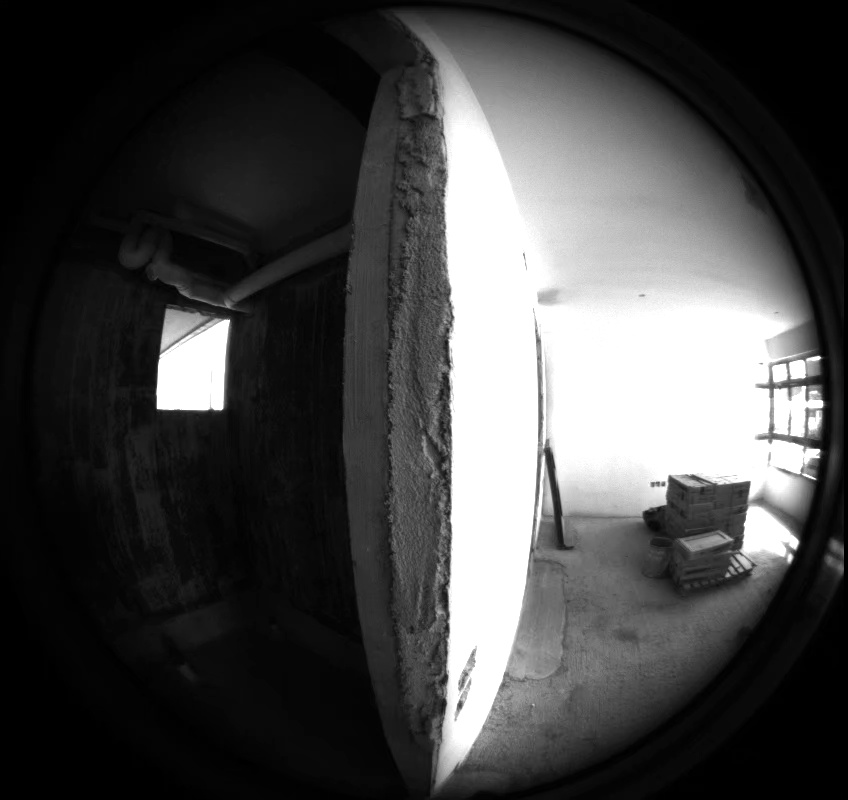Building materials: (84, 63, 754, 594), (107, 75, 749, 549)
Ceiling: (400, 11, 810, 316), (167, 56, 363, 250)
Floor: (361, 235, 797, 794)
Pipe: (118, 88, 351, 311), (118, 88, 250, 312)
Wall: (106, 42, 538, 782), (196, 18, 536, 790), (237, 209, 776, 515), (131, 258, 356, 639)
Windows: (66, 158, 823, 479), (72, 103, 228, 409)
